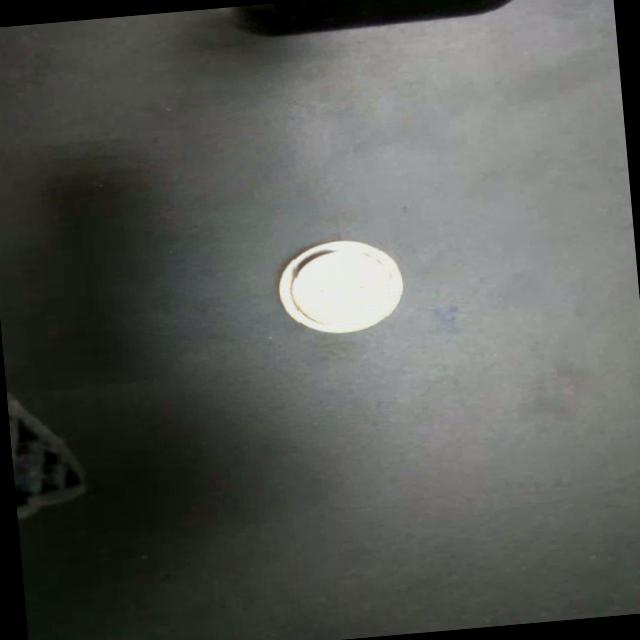sensor: (274, 233, 408, 339)
